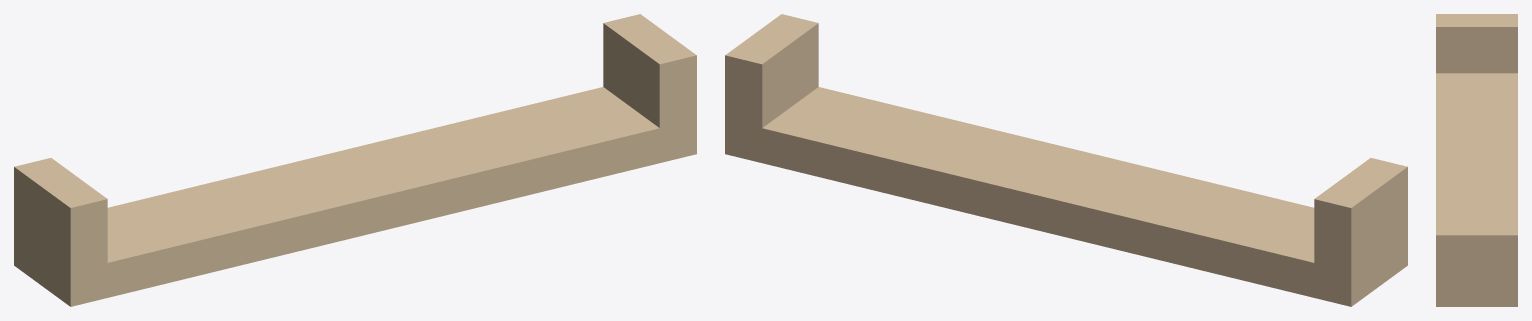
Rendered from fbx_shelf_2.fbx.
3 renders of one model, left to right at view 1: azimuth 30°, elevation 25°; view 2: azimuth 150°, elevation 25°; view 3: azimuth 270°, elevation 25°, orthographic. The views are drawn at different scales.
Parts seen in each view (by area): view 1: fbx_shelf_2; view 2: fbx_shelf_2; view 3: fbx_shelf_2.
Boxes of the visible parts, box(x1,y1,x2,y2) form: fbx_shelf_2: box(14, 14, 696, 306); fbx_shelf_2: box(725, 14, 1407, 306); fbx_shelf_2: box(1436, 14, 1517, 306).
Size of the model in its own units: 1.6 by 0.2421 by 0.2508.
1 material, 1 textured.
